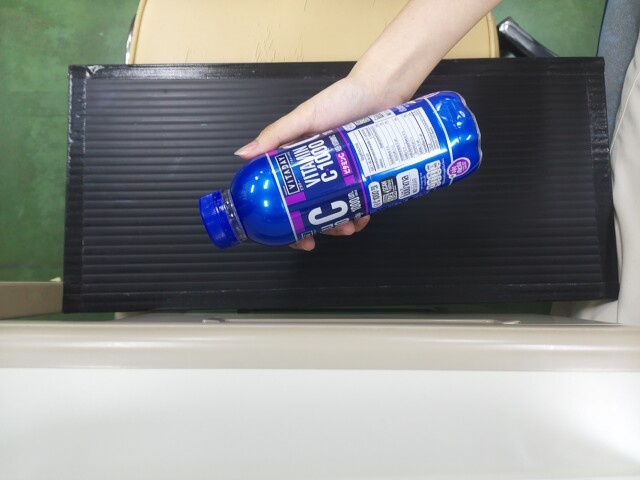plastic_bottle: (194, 105, 474, 246)
